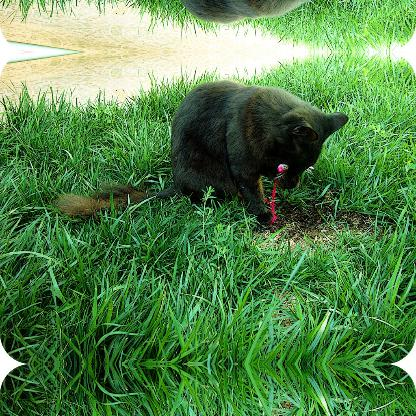Cat: (53, 78, 349, 224)
